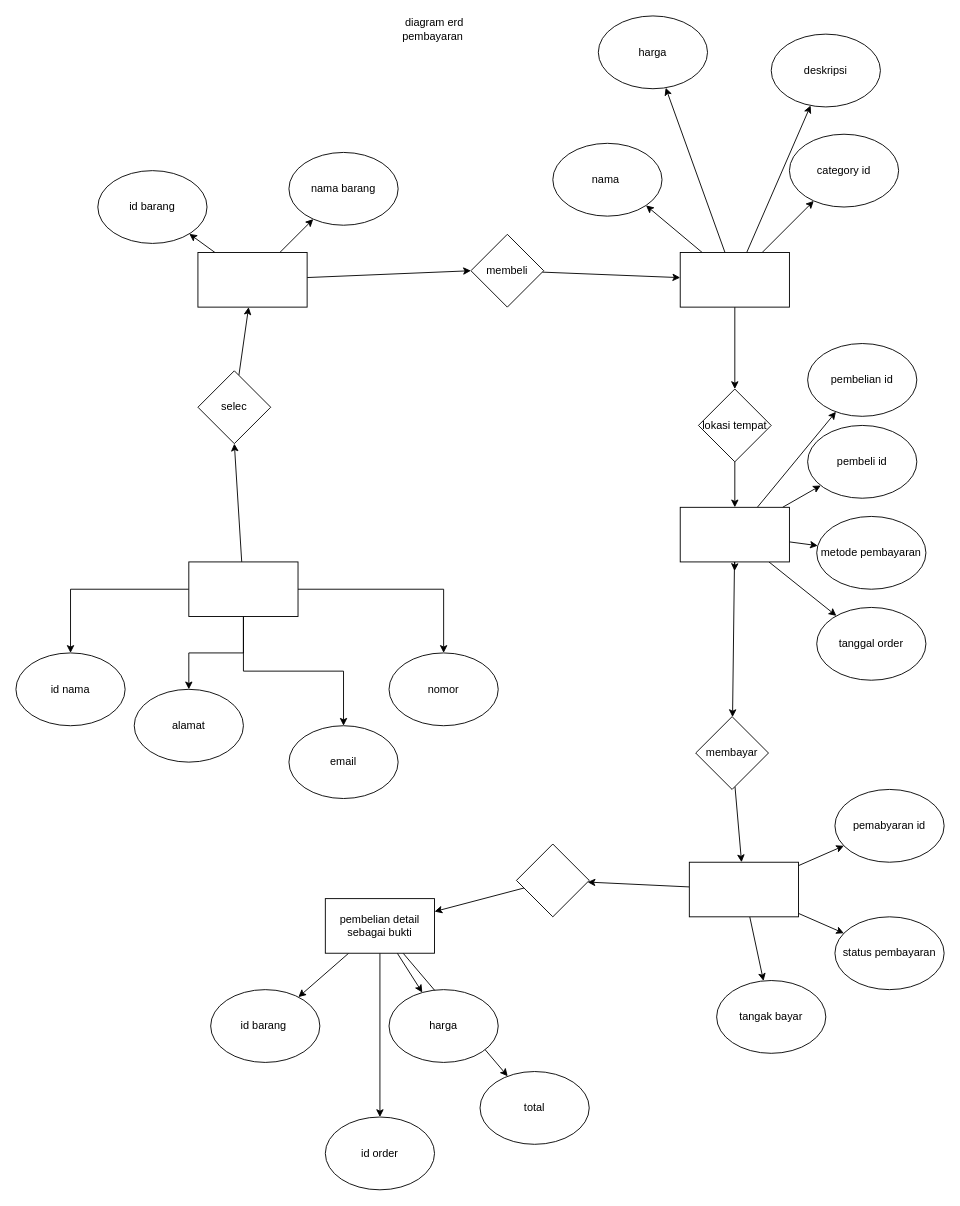
This 960x1206 diagram has some shape labels left out. Here are the shapes that lost their labels. From the top down, the centre of each, then its label:
point (252, 279): kategori barang yang di beli
point (734, 279): produk barang
point (734, 534): memesan
point (243, 589): pembeli
point (552, 880): mengecek (verif)
point (743, 889): pembayaran
